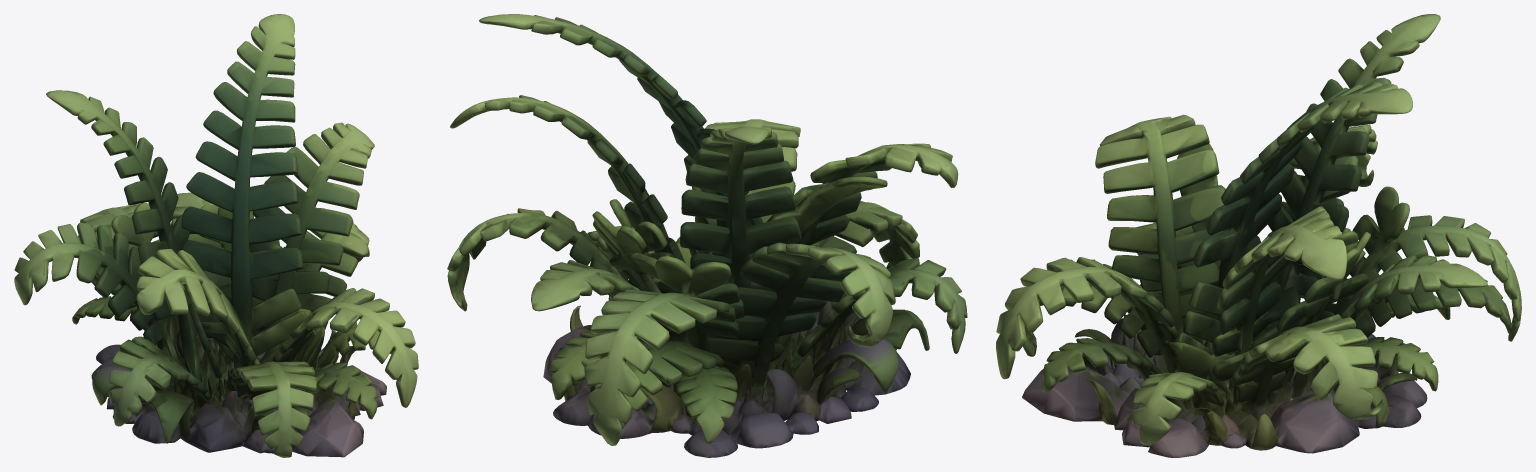
File: fren2.glb
3 renders of one model, left to right at view 1: azimuth 30°, elevation 25°; view 2: azimuth 150°, elevation 25°; view 3: azimuth 270°, elevation 25°, orthographic. The views are drawn at different scales.
Visible parts, largest first — view 1: node_0; view 2: node_0; view 3: node_0.
Part boxes in pixels (x1=…): node_0: x1=14, y1=14, x2=418, y2=457; node_0: x1=447, y1=14, x2=967, y2=457; node_0: x1=996, y1=14, x2=1521, y2=457.
Bounding box in the file's own units: 0.9194 × 0.7638 × 1.03.
Materials: 1 (1 with a texture image).
